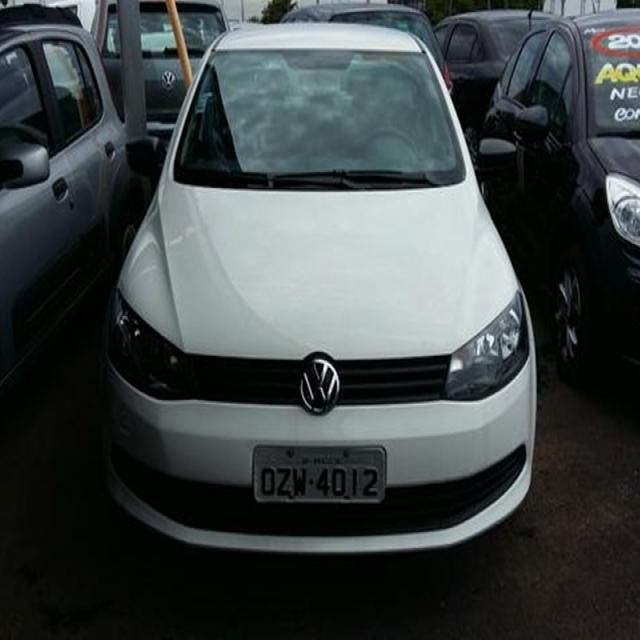Placa: (251, 441, 389, 509)
